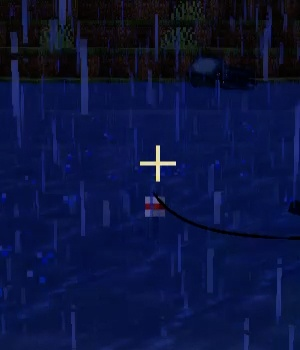up: (139, 189, 171, 233)
